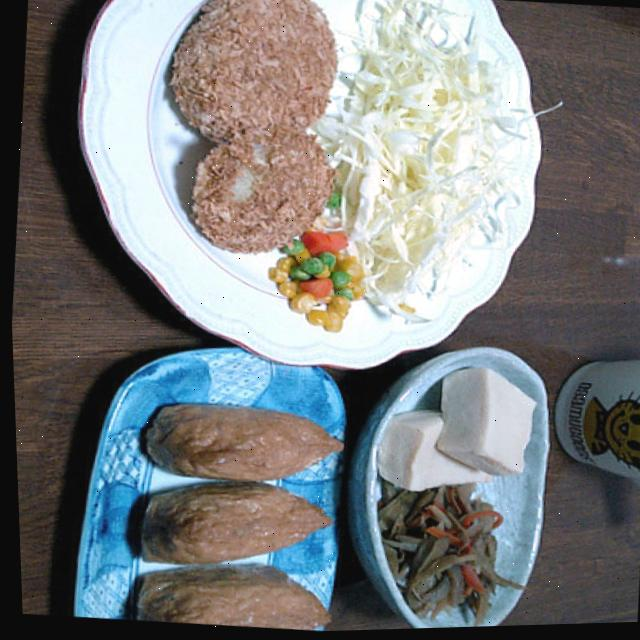炸货点心: (164, 0, 353, 261)
蔬菜料理: (286, 0, 557, 347), (362, 482, 517, 632)
